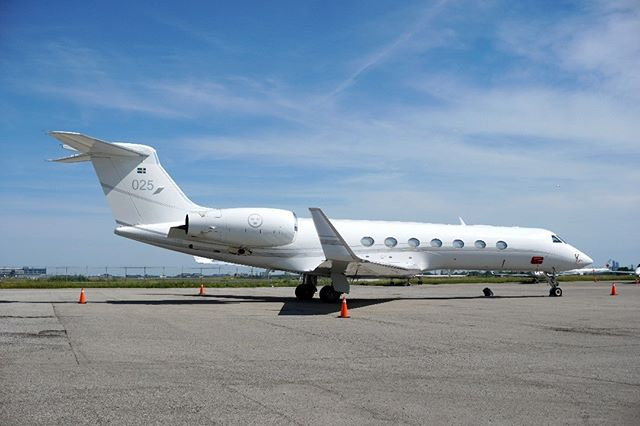plane: (63, 124, 588, 315)
sky: (1, 1, 640, 233)
traffic cone: (338, 297, 356, 323), (608, 278, 626, 304), (71, 283, 89, 309), (195, 277, 213, 303)
